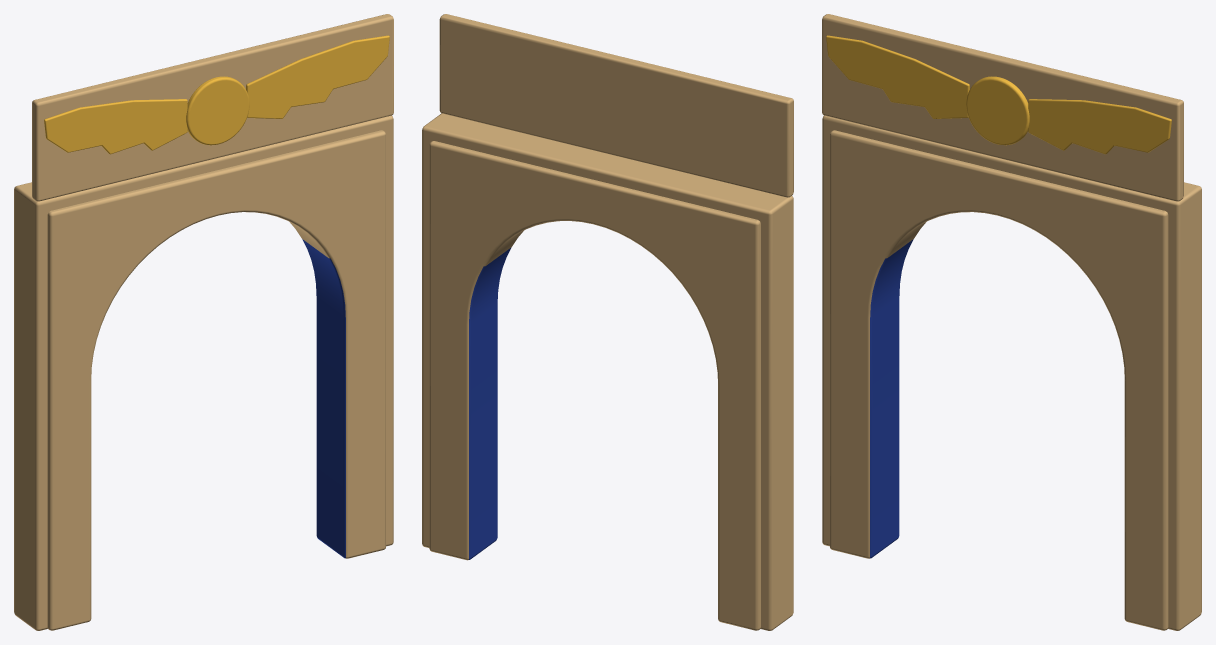
File: K_GateFrame.fbx
The picture shows the model from 3 angles, left to right: view 1: azimuth 30°, elevation 25°; view 2: azimuth 150°, elevation 25°; view 3: azimuth 330°, elevation 25°; orthographic projection. The views are drawn at different scales.
Parts seen in each view (by area): view 1: K_GateFrame; view 2: K_GateFrame; view 3: K_GateFrame.
Part boxes in pixels (<box>): K_GateFrame: <box>14,14,393,630</box>; K_GateFrame: <box>422,14,793,630</box>; K_GateFrame: <box>822,14,1201,630</box>.
Size of the model in its own units: 3.4 by 4.8 by 0.5.
